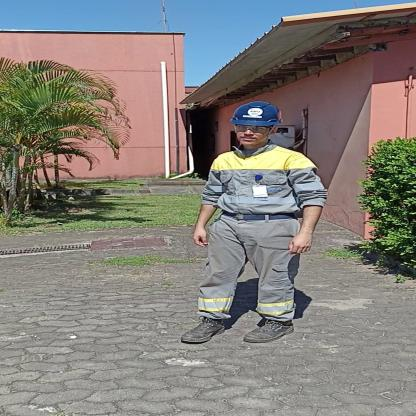Balaclava: (232, 124, 274, 154)
Capacete: (230, 99, 284, 123)
